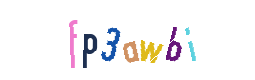3: (71, 0, 151, 80)
A: (87, 0, 167, 80)
B: (131, 0, 211, 80)
F: (37, 0, 117, 80)
I: (131, 0, 211, 80)
P: (48, 0, 128, 80)
W: (102, 0, 182, 80)
